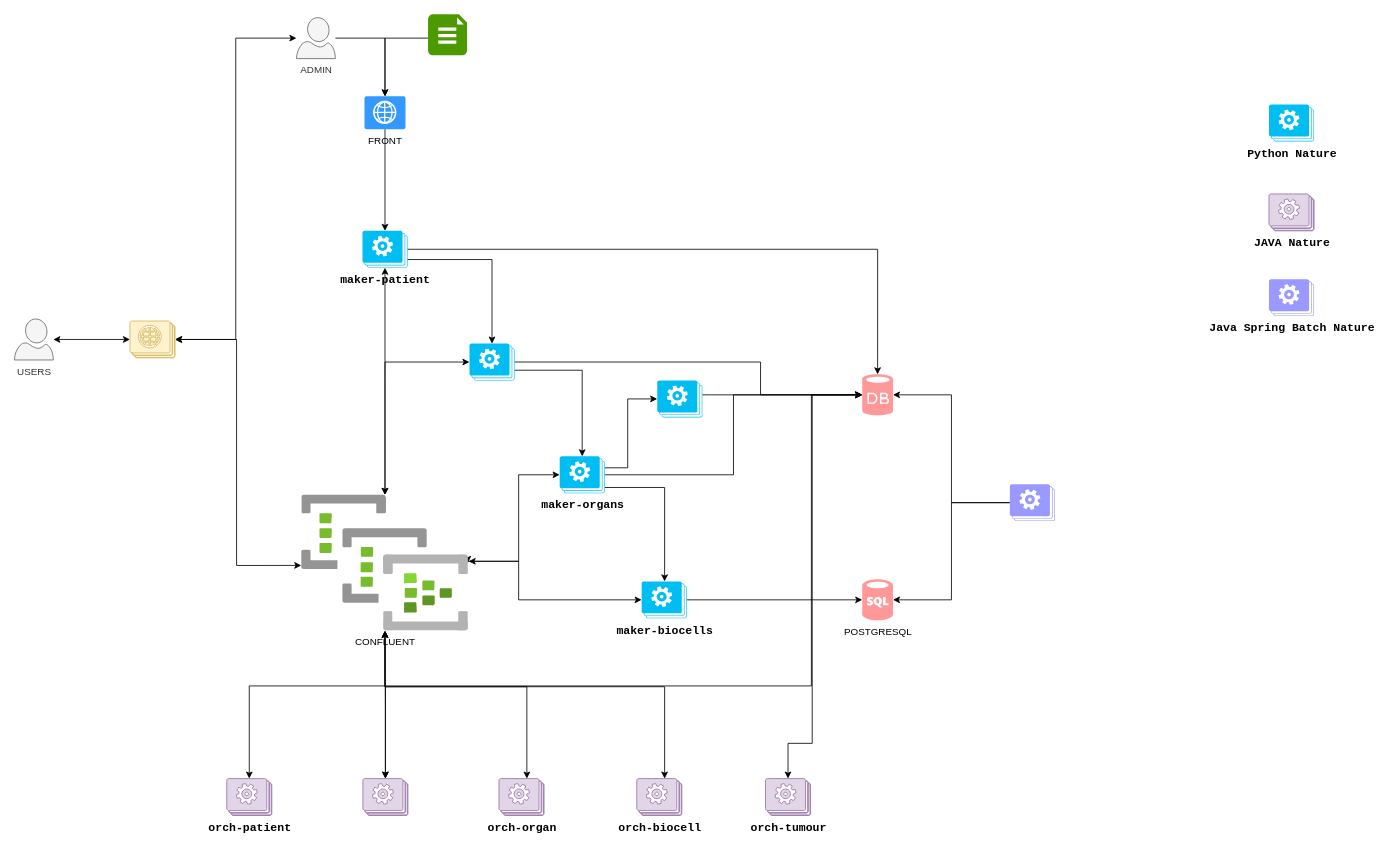
This 1388x849 diagram has some shape labels left out. Here are the shapes that lost their labels. From the top down, the centre of each, then its label:
the point at 447,34: AVRO Schema
the point at 152,339: GRAFANA KIBANA
the point at 491,361: maker-biosystem
the point at 679,398: maker-tumour
the point at 877,394: NEO4J
the point at 1032,502: pulse Spring Batch
the point at 385,796: orch-biosystem
